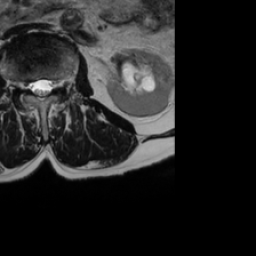CCS_normal: (37, 70, 45, 106)
LFS_normal: (53, 70, 61, 95)
LLS_normal: (45, 70, 53, 102)
RFS_normal: (21, 72, 29, 96)
RLS_normal: (29, 72, 37, 99)
